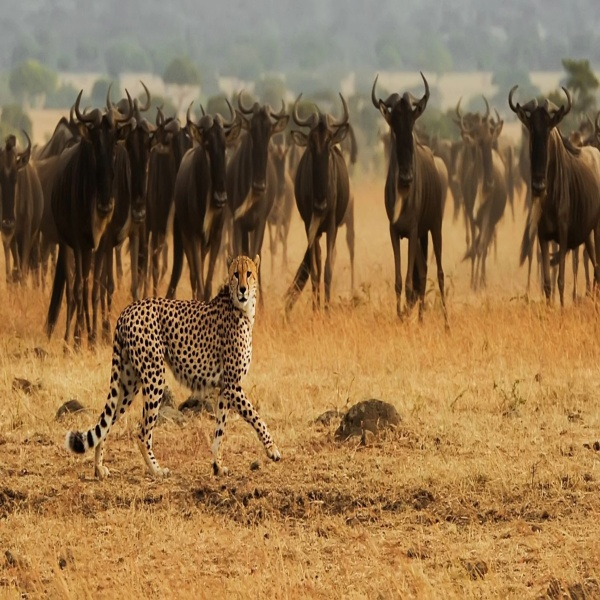Cheetah: (65, 252, 290, 483)
